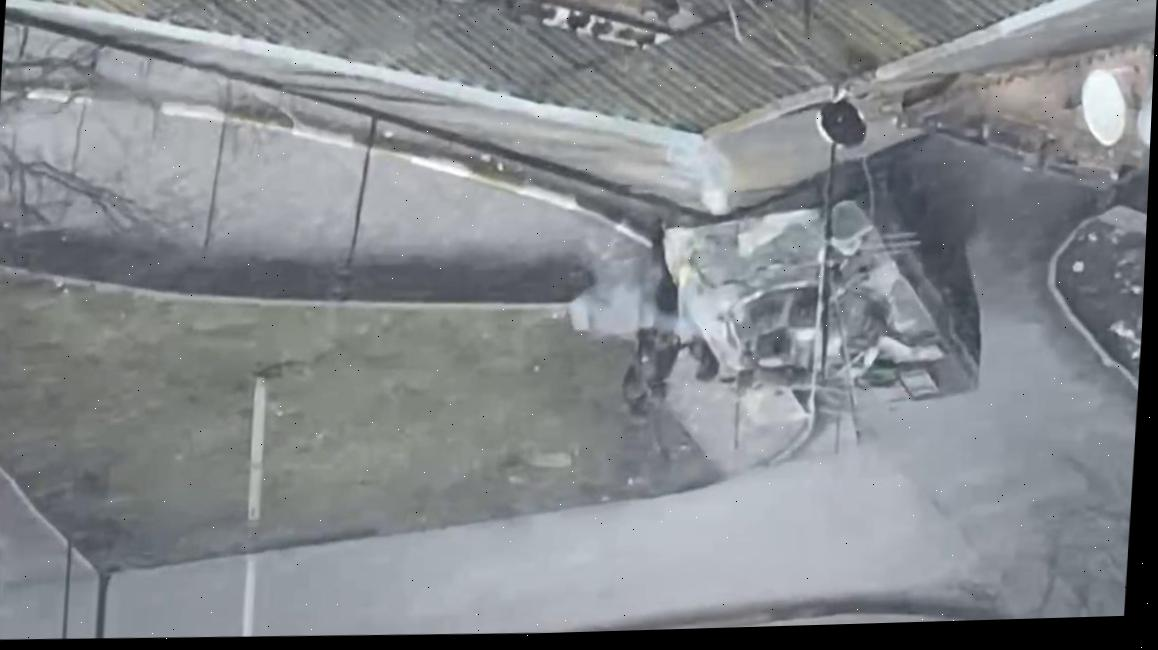person: (632, 243, 696, 404), (610, 335, 656, 424)
tank: (648, 150, 993, 434)
